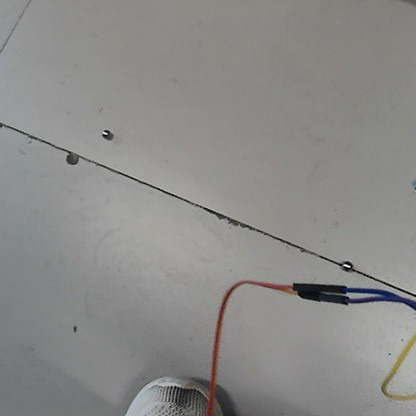ironball: (99, 126, 113, 140), (340, 258, 354, 270)
